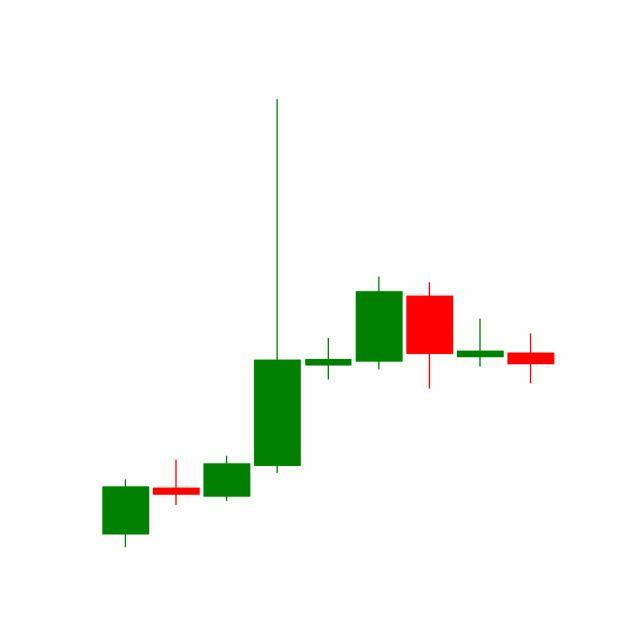Hikkake Pattern: (302, 275, 555, 391)
